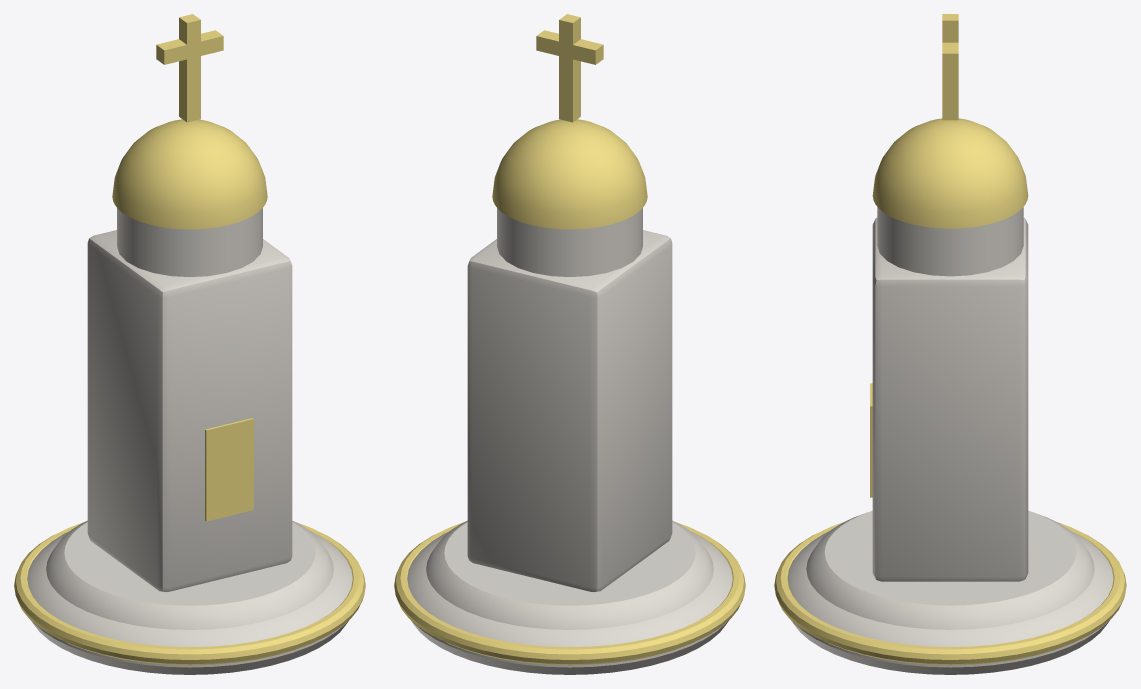
The model's file is Santorini_Rey.fbx.
The picture shows the model from 3 angles, left to right: view 1: azimuth 30°, elevation 25°; view 2: azimuth 150°, elevation 25°; view 3: azimuth 270°, elevation 25°; orthographic projection.
Visible parts, largest first — view 1: Santorini_Rey; view 2: Santorini_Rey; view 3: Santorini_Rey.
Boxes of the visible parts, x1,y1,x2,y2 form: Santorini_Rey: [14, 14, 365, 674]; Santorini_Rey: [394, 14, 745, 674]; Santorini_Rey: [774, 14, 1126, 674].
Size of the model in its own units: 0.77 by 1.42 by 0.77.
